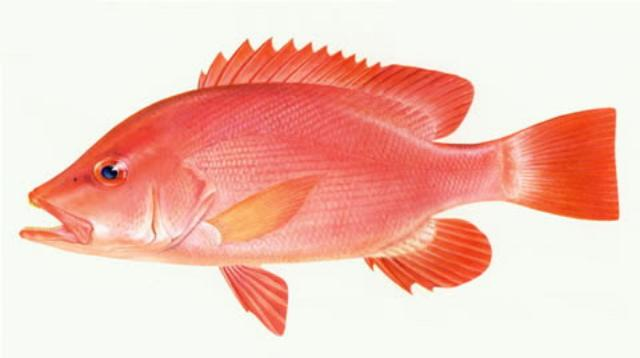Mulut: (15, 184, 74, 254)
Sirip Anal: (360, 210, 496, 298)
Sirip Dada: (202, 166, 328, 242)
Sirip Ekor: (507, 100, 627, 228)
Sirip Perut: (215, 260, 301, 340)
Sirip Punggung: (190, 30, 474, 140)
